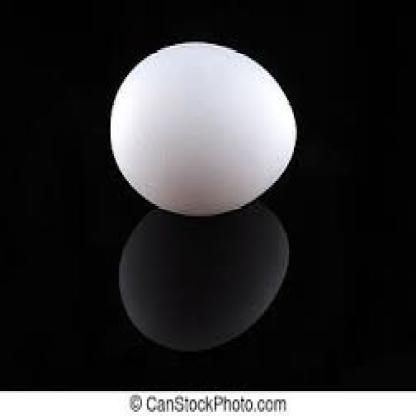egg: (109, 42, 298, 218)
